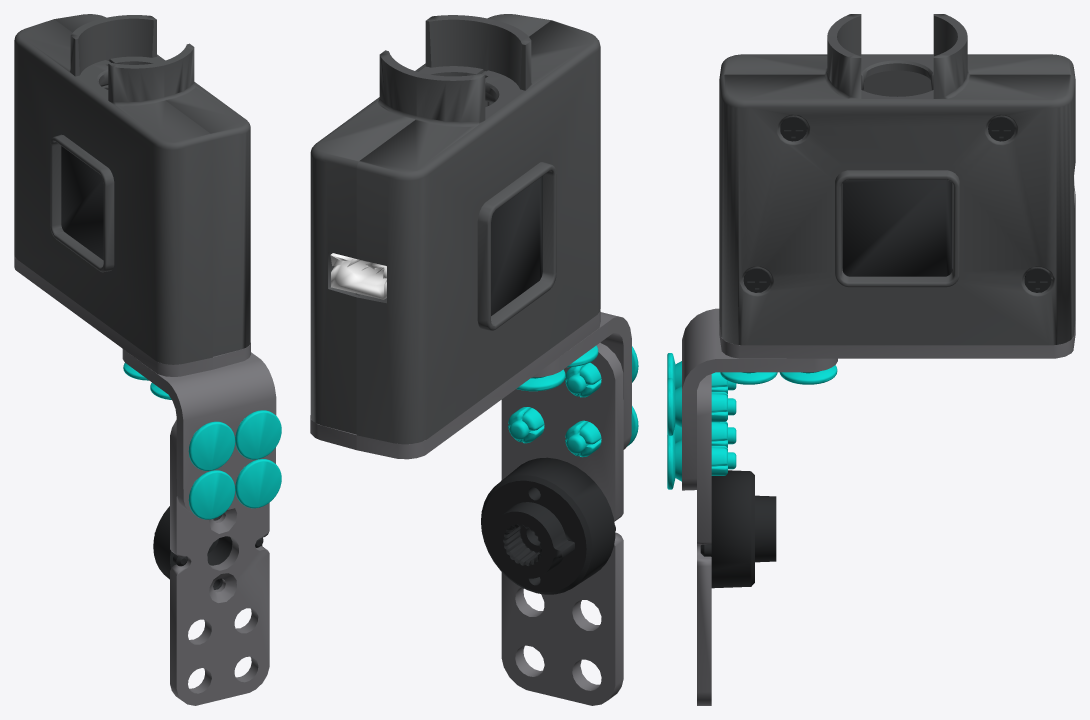
Rendered from pan_asm_2_dessimate_2.dae.
The picture shows the model from 3 angles, left to right: view 1: azimuth 30°, elevation 25°; view 2: azimuth 150°, elevation 25°; view 3: azimuth 270°, elevation 25°; orthographic projection. The views are drawn at different scales.
Visible parts, largest first — view 1: 0000050488_ASM_1_ASM, 0000063776_ASM, 0000060935_ASM_1_ASM, 0000050824_ASM_1_ASM.007, 0000050824_ASM_1_ASM.004, 0000050824_ASM_1_ASM.006, 0000050824_ASM_1_ASM.005; view 2: 0000050488_ASM_1_ASM, 0000063776_ASM, 0000060935_ASM_1_ASM, 0000050824_ASM_1_ASM.006, 0000050824_ASM_1_ASM.005, 0000050824_ASM_1_ASM.007, 0000050824_ASM_1_ASM.001; view 3: 0000050488_ASM_1_ASM, 0000063776_ASM, 0000060935_ASM_1_ASM, 0000050824_ASM_1_ASM.004, 0000050824_ASM_1_ASM.007, 0000050824_ASM_1_ASM.005, 0000050824_ASM_1_ASM.006, 0000050824_ASM_1_ASM.002.
Part boxes in pixels (box(x1,y1,x2,y2)): 0000050488_ASM_1_ASM: box(14, 14, 250, 376); 0000063776_ASM: box(153, 420, 269, 705); 0000060935_ASM_1_ASM: box(122, 349, 276, 514); 0000050824_ASM_1_ASM.007: box(235, 459, 281, 508); 0000050824_ASM_1_ASM.004: box(235, 410, 281, 459); 0000050824_ASM_1_ASM.006: box(188, 470, 235, 519); 0000050824_ASM_1_ASM.005: box(188, 421, 235, 470); 0000050488_ASM_1_ASM: box(310, 14, 600, 459); 0000063776_ASM: box(481, 342, 623, 705); 0000060935_ASM_1_ASM: box(532, 312, 631, 449); 0000050824_ASM_1_ASM.006: box(565, 406, 638, 457); 0000050824_ASM_1_ASM.005: box(565, 346, 638, 397); 0000050824_ASM_1_ASM.007: box(508, 407, 544, 443); 0000050824_ASM_1_ASM.001: box(516, 369, 565, 391); 0000050488_ASM_1_ASM: box(719, 14, 1075, 358); 0000063776_ASM: box(697, 374, 776, 705); 0000060935_ASM_1_ASM: box(682, 308, 837, 490); 0000050824_ASM_1_ASM.004: box(667, 378, 736, 435); 0000050824_ASM_1_ASM.007: box(667, 434, 736, 489); 0000050824_ASM_1_ASM.005: box(667, 353, 736, 393); 0000050824_ASM_1_ASM.006: box(673, 421, 736, 447); 0000050824_ASM_1_ASM.002: box(779, 365, 837, 384).
Size of the model in its own units: 0.019 by 0.055 by 0.0972.
